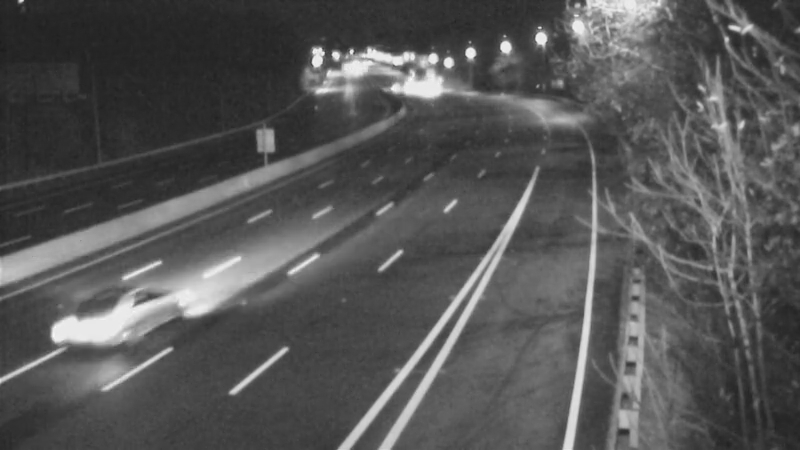vehicle: (54, 261, 164, 371), (361, 63, 411, 113)
